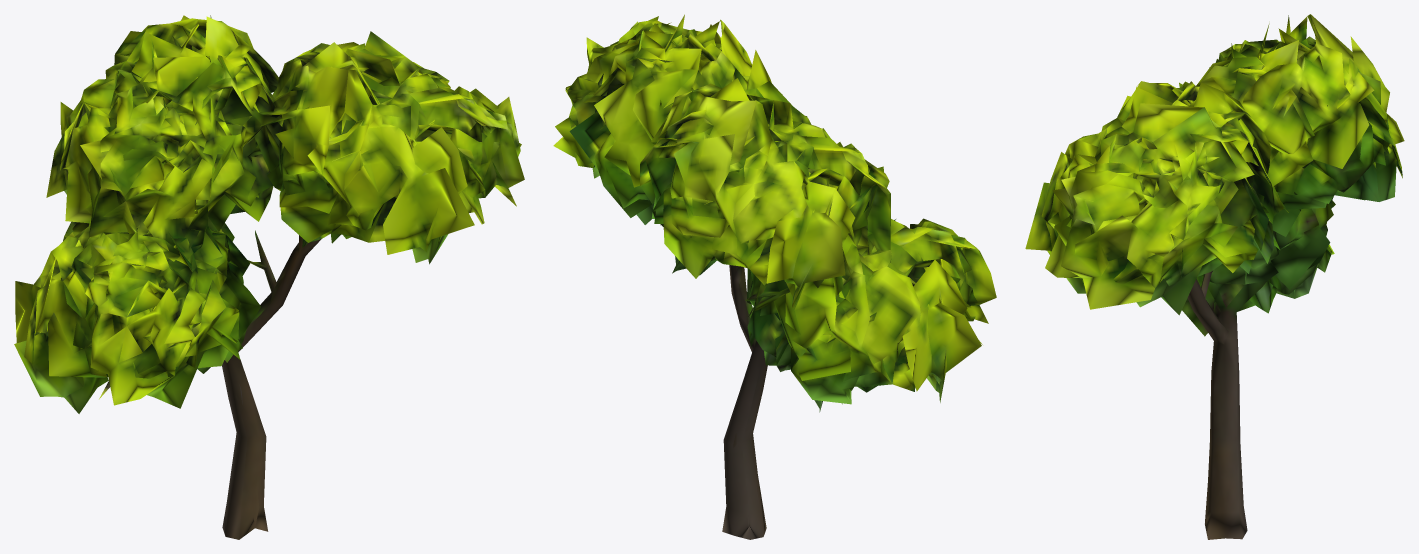
Rendered from _1207175255_texture-v1.glb.
3 views of the same model, side by side, from view 1: azimuth 30°, elevation 25°; view 2: azimuth 150°, elevation 25°; view 3: azimuth 270°, elevation 25° (orthographic). The views are drawn at different scales.
Parts seen in each view (by area): view 1: Mesh1.0; view 2: Mesh1.0; view 3: Mesh1.0.
Boxes of the visible parts, left/top/right/bottom form: Mesh1.0: left=14, top=15, right=524, bottom=539; Mesh1.0: left=553, top=14, right=996, bottom=539; Mesh1.0: left=1025, top=14, right=1404, bottom=539.
Size of the model in its own units: 2.89 by 3 by 2.07.
Materials: 1 (1 with a texture image).
